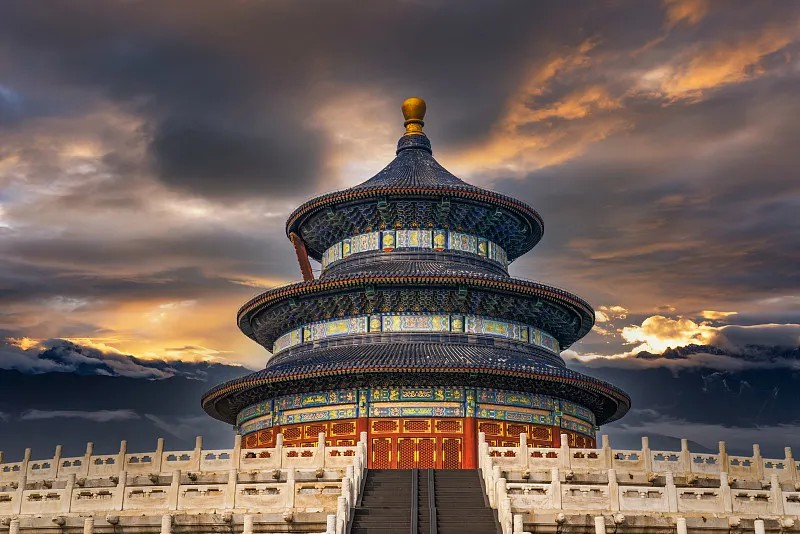Heaven: (200, 98, 633, 467)
